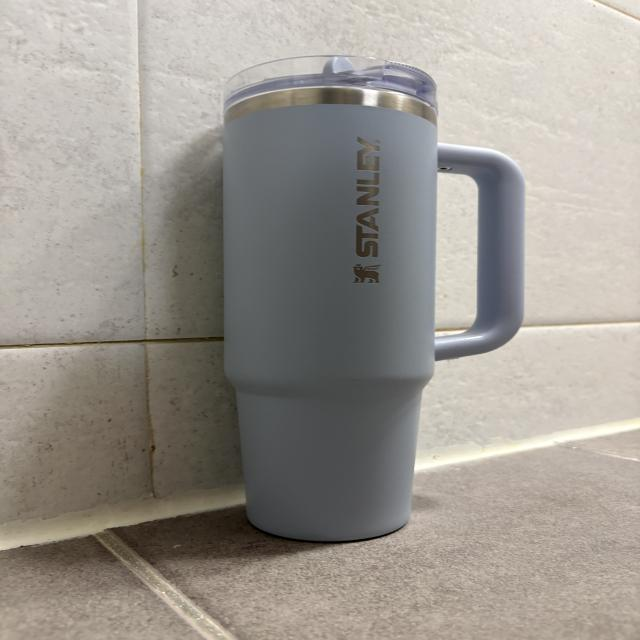waterbottle: (223, 54, 523, 543)
